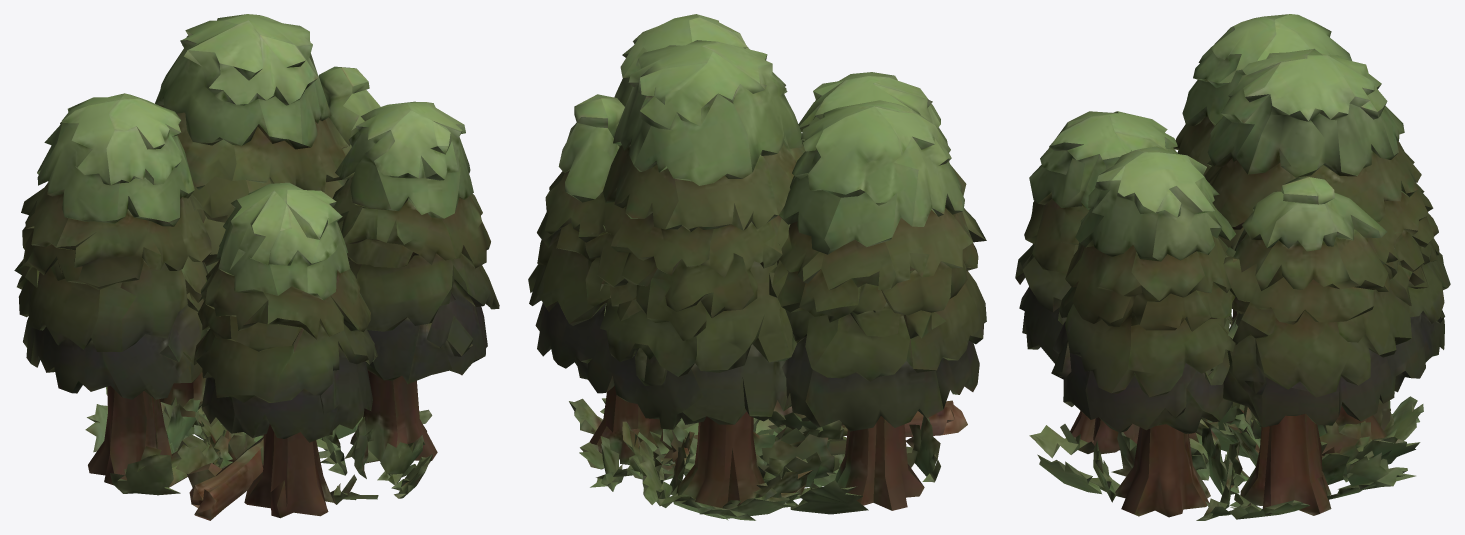
The model's file is forest_grove_v1_blob.glb.
3 views of the same model, side by side, from view 1: azimuth 30°, elevation 25°; view 2: azimuth 150°, elevation 25°; view 3: azimuth 270°, elevation 25° (orthographic). The views are drawn at different scales.
Visible parts, largest first — view 1: geometry_0; view 2: geometry_0; view 3: geometry_0.
Part boxes in pixels (x1=…): geometry_0: x1=14, y1=14, x2=499, y2=520; geometry_0: x1=528, y1=14, x2=986, y2=520; geometry_0: x1=1015, y1=14, x2=1450, y2=520.
Bounding box in the file's own units: 0.458 × 0.45 × 0.4341.
Materials: 1 (1 with a texture image).
